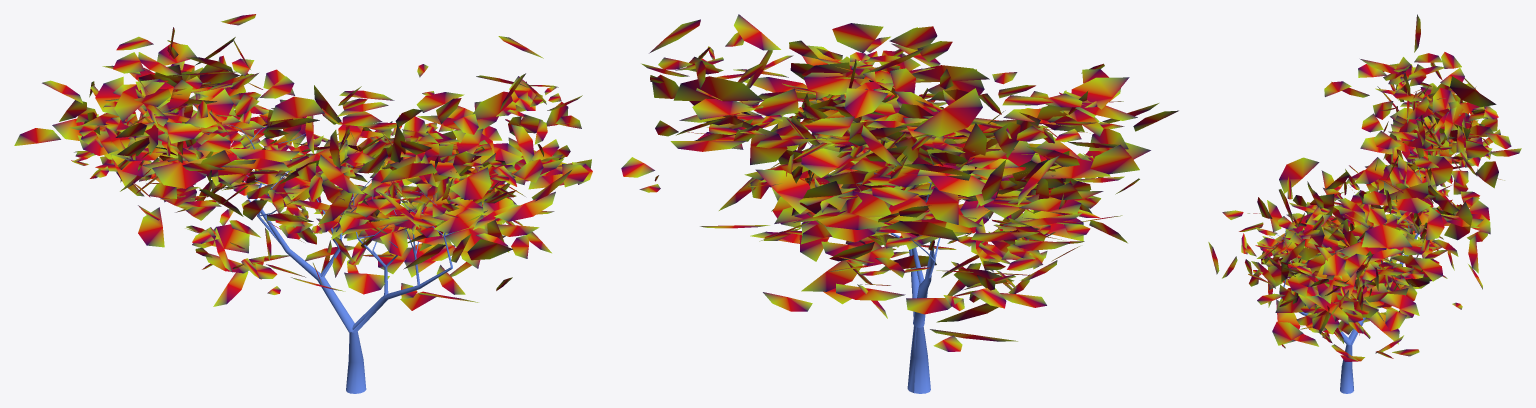
Rendered from arbre_last.glb.
3 renders of one model, left to right at view 1: azimuth 30°, elevation 25°; view 2: azimuth 150°, elevation 25°; view 3: azimuth 270°, elevation 25°, orthographic. The views are drawn at different scales.
Parts seen in each view (by area): view 1: leaves, batch; view 2: leaves, batch; view 3: leaves, batch.
Boxes of the visible parts, x1,y1,x2,y2 form: leaves: (14, 14, 592, 310); batch: (225, 125, 484, 393); leaves: (621, 14, 1178, 351); batch: (890, 100, 945, 393); leaves: (1208, 14, 1521, 361); batch: (1269, 149, 1433, 393).
Bounding box in the file's own units: 29.62 × 19.08 × 19.99.
